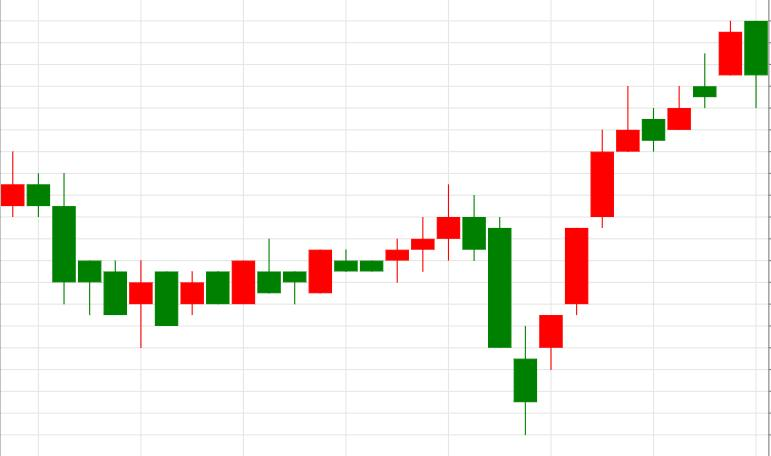three_white_soldiers_rise: (463, 130, 614, 435)
